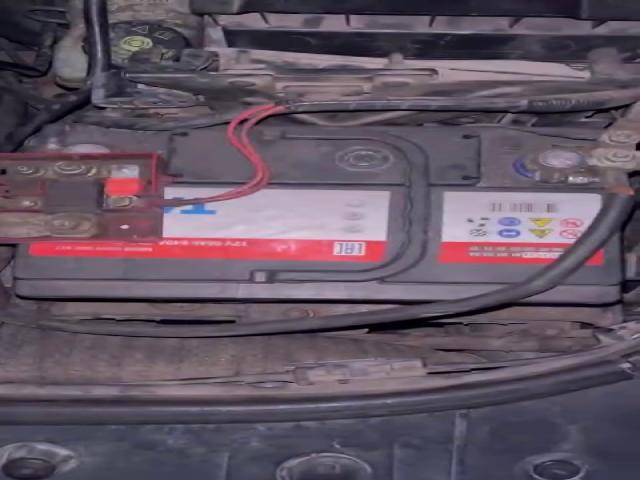accumulator: (0, 120, 617, 306)
